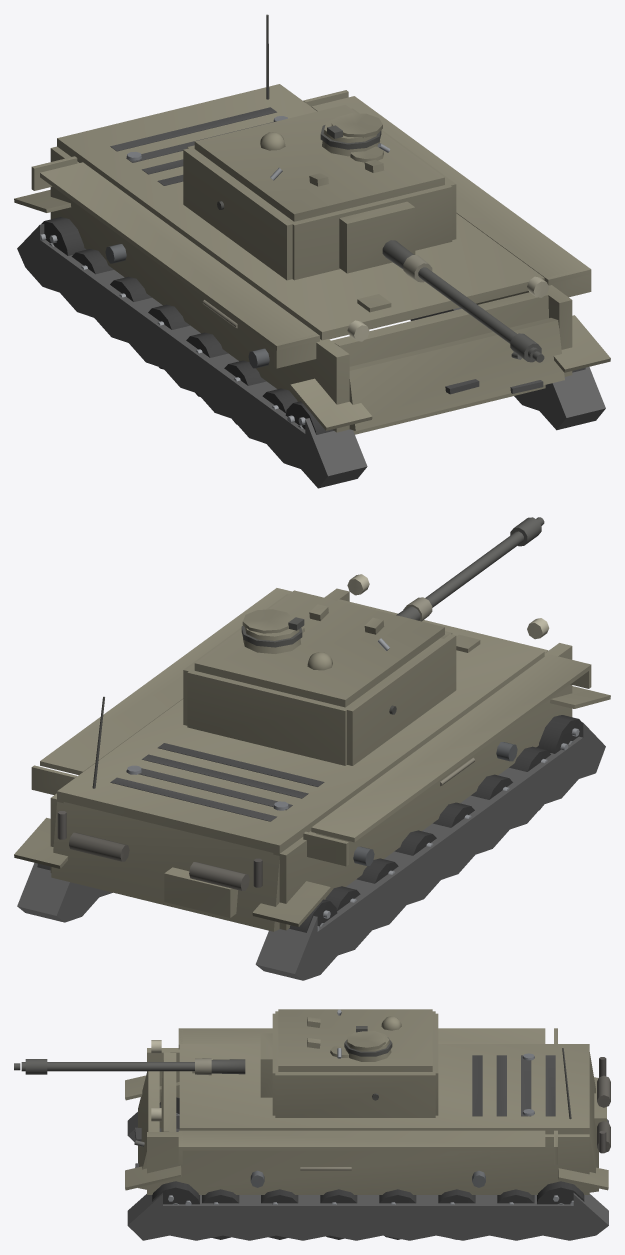
File: chieftain.glb
3 renders of one model, top to bottom at view 1: azimuth 30°, elevation 25°; view 2: azimuth 150°, elevation 25°; view 3: azimuth 270°, elevation 25°, orthographic. The views are drawn at different scales.
Parts seen in each view (by area): view 1: hullSide, hullTop, tracks, turretRoof, lowerPlate, turretSide, glacis, turretFront, mantlet, barrel, wheel7, wheel6 (+3 smaller); view 2: hullTop, hullSide, tracks, hullRear, turretRoof, turretRear, turretSide, barrel, wheel6, glacis, wheel5, wheel2 (+4 smaller); view 3: hullSide, hullTop, tracks, turretRoof, turretSide, barrel, hullRear, lowerPlate, glacis, wheel15, wheel14, mantlet (+8 smaller).
Part boxes in pixels (x1,y1,x2,y2): hullSide: (31, 90, 591, 432); hullTop: (57, 84, 544, 340); tracks: (14, 189, 610, 488); turretRoof: (194, 104, 444, 221); lowerPlate: (349, 318, 564, 430); turretSide: (183, 108, 456, 280); glacis: (331, 292, 548, 434); turretFront: (287, 182, 452, 280); mantlet: (339, 201, 415, 273); barrel: (382, 240, 544, 362); wheel7: (40, 217, 86, 255); wheel6: (285, 401, 333, 434); hullTop: (57, 627, 544, 853); hullSide: (31, 574, 591, 930); tracks: (14, 686, 610, 980); hullRear: (51, 696, 280, 931); turretRoof: (194, 590, 444, 707); turretRear: (187, 668, 351, 765); turretSide: (183, 594, 456, 765); barrel: (396, 517, 544, 621); wheel6: (536, 715, 581, 753); glacis: (337, 599, 548, 652); wheel5: (509, 746, 550, 810); wheel2: (394, 830, 436, 855); hullSide: (147, 1028, 589, 1194); hullTop: (179, 1044, 589, 1134); tracks: (125, 1075, 608, 1240); turretRoof: (278, 1009, 432, 1071); turretSide: (275, 1011, 435, 1117); barrel: (14, 1058, 245, 1075); hullRear: (562, 1048, 610, 1192); lowerPlate: (138, 1071, 159, 1189); glacis: (134, 1052, 194, 1167); wheel15: (537, 1181, 584, 1205); wheel14: (152, 1181, 199, 1205); mantlet: (260, 1033, 272, 1097).
Bounding box in the file's own units: 4.38 × 2.97 × 9.3.
